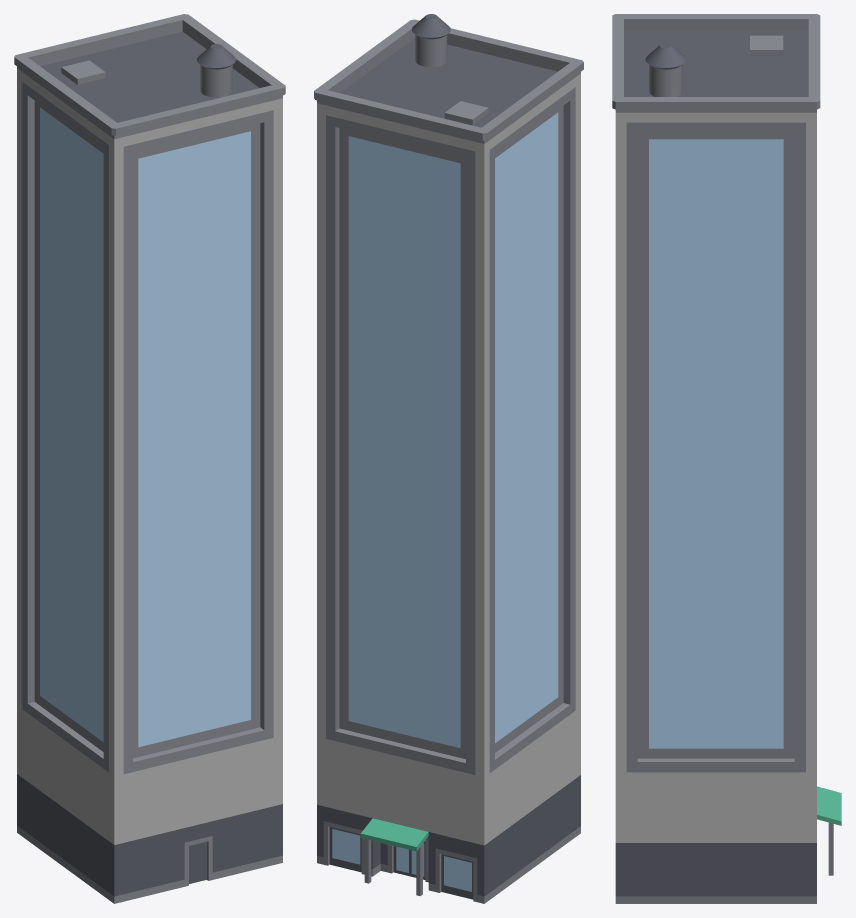
The model's file is skyscraperD.fbx.
3 renders of one model, left to right at view 1: azimuth 30°, elevation 25°; view 2: azimuth 150°, elevation 25°; view 3: azimuth 270°, elevation 25°, orthographic. The views are drawn at different scales.
Parts seen in each view (by area): view 1: skyscraperD; view 2: skyscraperD; view 3: skyscraperD.
Part boxes in pixels (<box>): skyscraperD: <box>14,14,285,903</box>; skyscraperD: <box>314,14,583,903</box>; skyscraperD: <box>612,14,841,903</box>.
Size of the model in its own units: 12.4 by 55 by 13.68.
